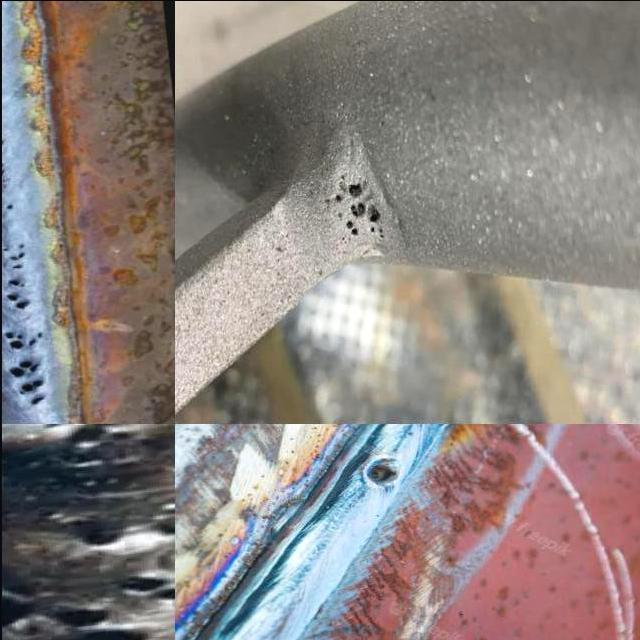defect: (31, 423, 146, 469), (49, 598, 152, 640), (112, 570, 173, 604), (359, 455, 401, 489), (71, 527, 128, 550), (0, 329, 45, 352), (2, 277, 29, 314), (366, 205, 385, 245), (0, 241, 26, 270), (2, 357, 39, 377), (14, 379, 45, 395), (344, 178, 361, 200), (348, 200, 364, 221), (343, 217, 358, 239), (0, 196, 14, 212), (27, 395, 45, 406), (338, 235, 347, 245), (0, 162, 6, 177), (333, 192, 341, 203), (321, 195, 329, 206), (336, 211, 343, 222), (0, 138, 4, 148)
